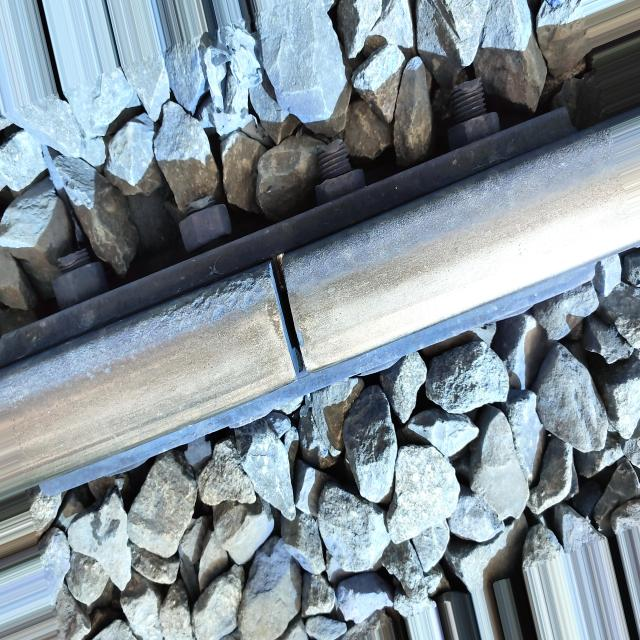crack: (244, 250, 337, 393)
